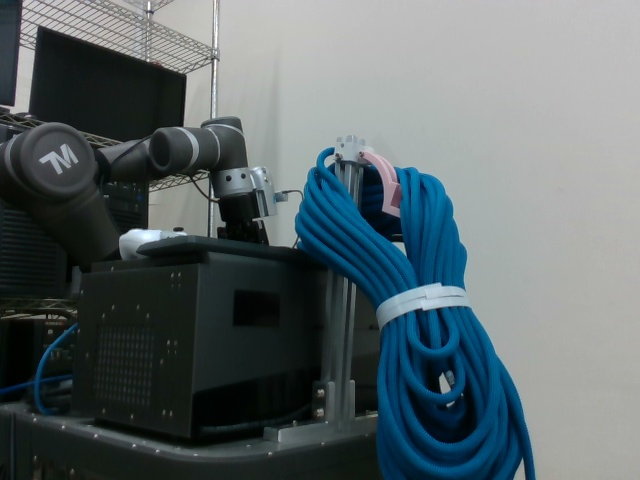rope: (295, 148, 533, 480)
